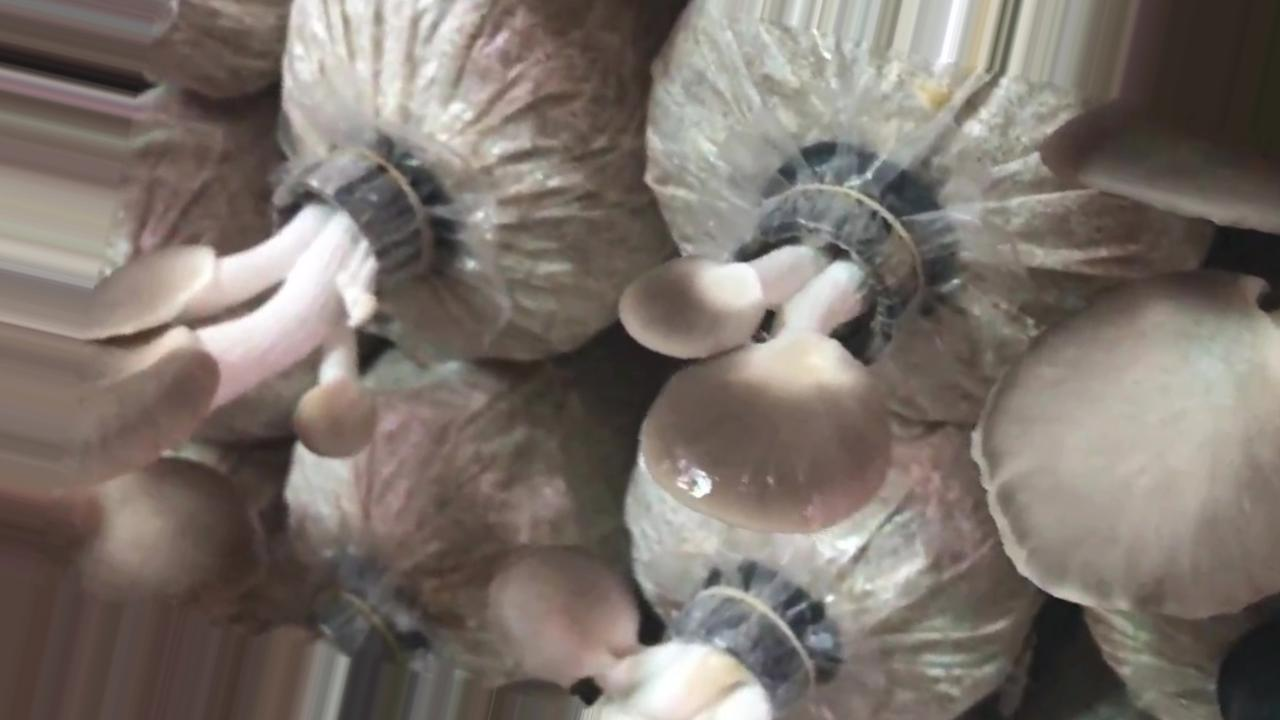nam: (85, 127, 455, 612), (970, 91, 1280, 624), (614, 153, 945, 534), (485, 550, 834, 720)
